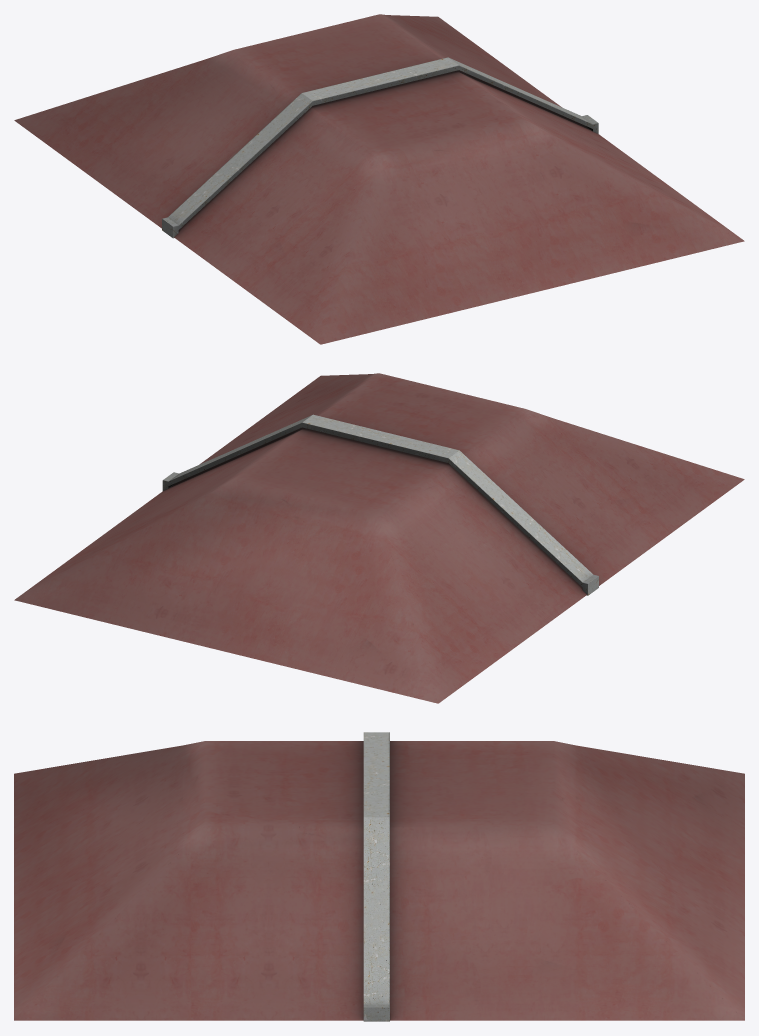
File: Ramp14.fbx
3 views of the same model, one above another, from view 1: azimuth 30°, elevation 25°; view 2: azimuth 150°, elevation 25°; view 3: azimuth 270°, elevation 25° (orthographic). The views are drawn at different scales.
Visible parts, largest first — view 1: Ramp14; view 2: Ramp14; view 3: Ramp14.
Part boxes in pixels (bbox=[...]): Ramp14: bbox=[14, 14, 744, 344]; Ramp14: bbox=[14, 373, 744, 703]; Ramp14: bbox=[14, 732, 744, 1021].
Bounding box in the file's own units: 8.01 × 1.86 × 10.
